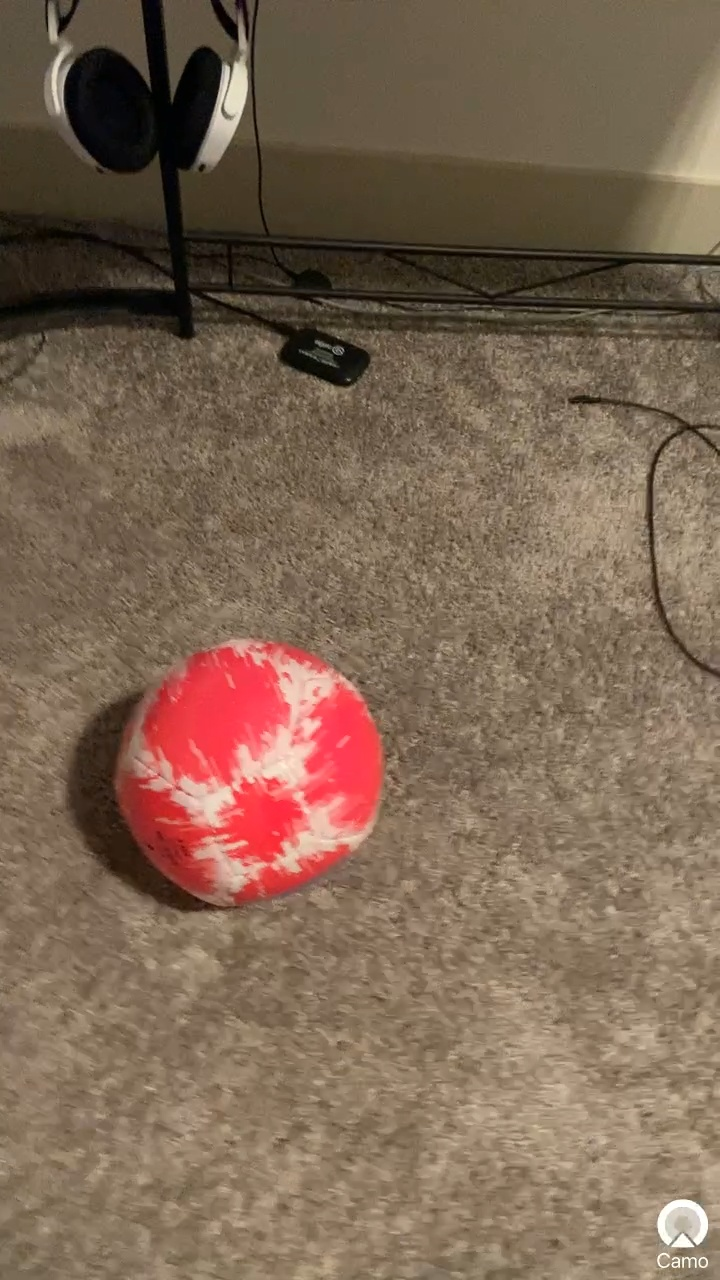Soccer_Ball: (98, 628, 421, 936)
